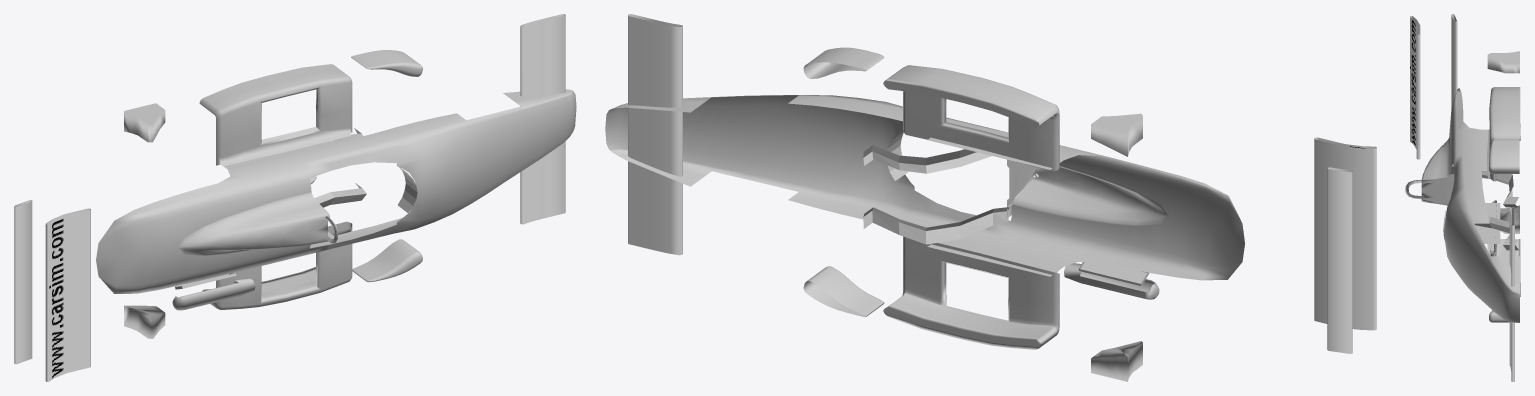
The model's file is Body.obj.
The picture shows the model from 3 angles, left to right: view 1: azimuth 30°, elevation 25°; view 2: azimuth 150°, elevation 25°; view 3: azimuth 270°, elevation 25°; orthographic projection. The views are drawn at different scales.
Parts seen in each view (by area): view 1: Body1, spoiler_wings, Body2, seats_1, dash; view 2: Body1, spoiler_wings, Body2, seats_1, engine3; view 3: Body1, spoiler_wings, Body2, seats_1, hook.
Part boxes in pixels (left/top/right/bottom): Body1: left=96, top=64, right=576, bottom=309; spoiler_wings: left=14, top=14, right=565, bottom=381; Body2: left=124, top=50, right=422, bottom=338; seats_1: left=309, top=128, right=366, bottom=207; dash: left=398, top=167, right=417, bottom=212; Body1: left=605, top=65, right=1244, bottom=349; spoiler_wings: left=628, top=14, right=1376, bottom=353; Body2: left=803, top=47, right=1159, bottom=381; seats_1: left=863, top=145, right=1009, bottom=244; engine3: left=1078, top=262, right=1149, bottom=285; Body1: left=1421, top=87, right=1520, bottom=322; spoiler_wings: left=1410, top=14, right=1514, bottom=381; Body2: left=1487, top=51, right=1519, bottom=322; seats_1: left=1475, top=171, right=1518, bottom=250; hook: left=1405, top=179, right=1421, bottom=199.
Bounding box in the file's own units: 4.13 × 1.41 × 0.8631.
1 material, 1 textured.
